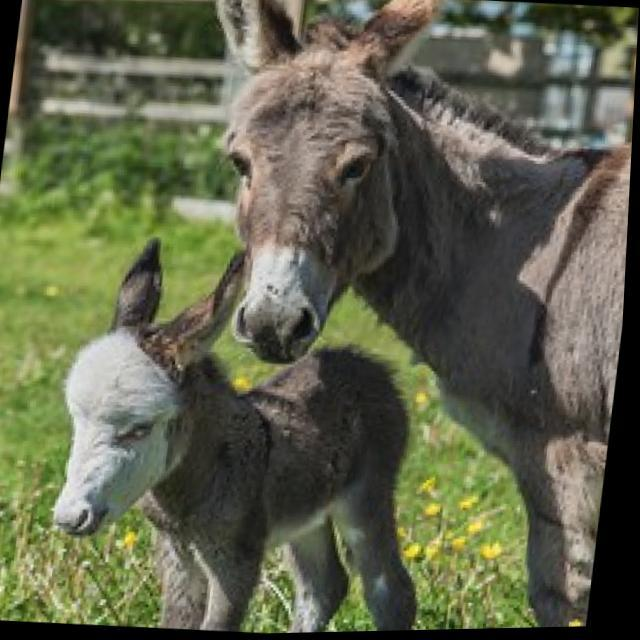Donkey: (135, 0, 640, 637), (38, 225, 466, 639)
